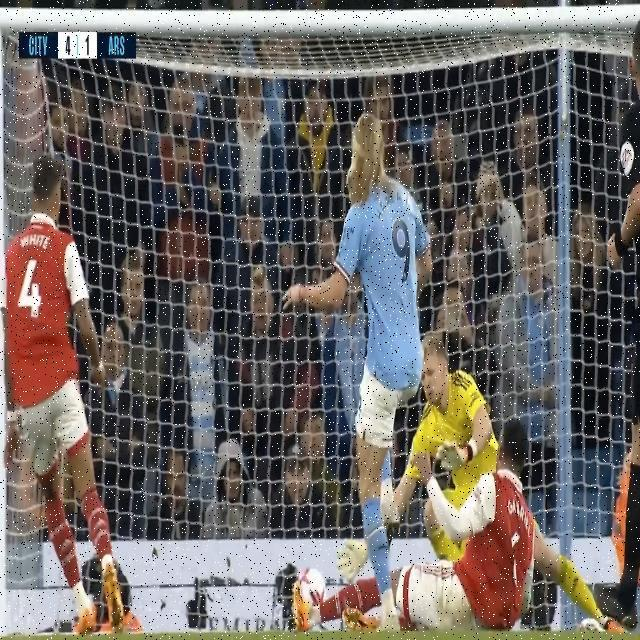ball: (293, 539, 329, 621)
goalkeeper: (415, 321, 509, 503)
player: (297, 91, 435, 609), (0, 122, 129, 640), (414, 450, 555, 636)
referee: (595, 31, 640, 637)
